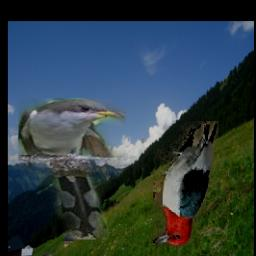Cuckoo: (18, 98, 126, 239)
Woodpecker: (153, 121, 218, 246)
